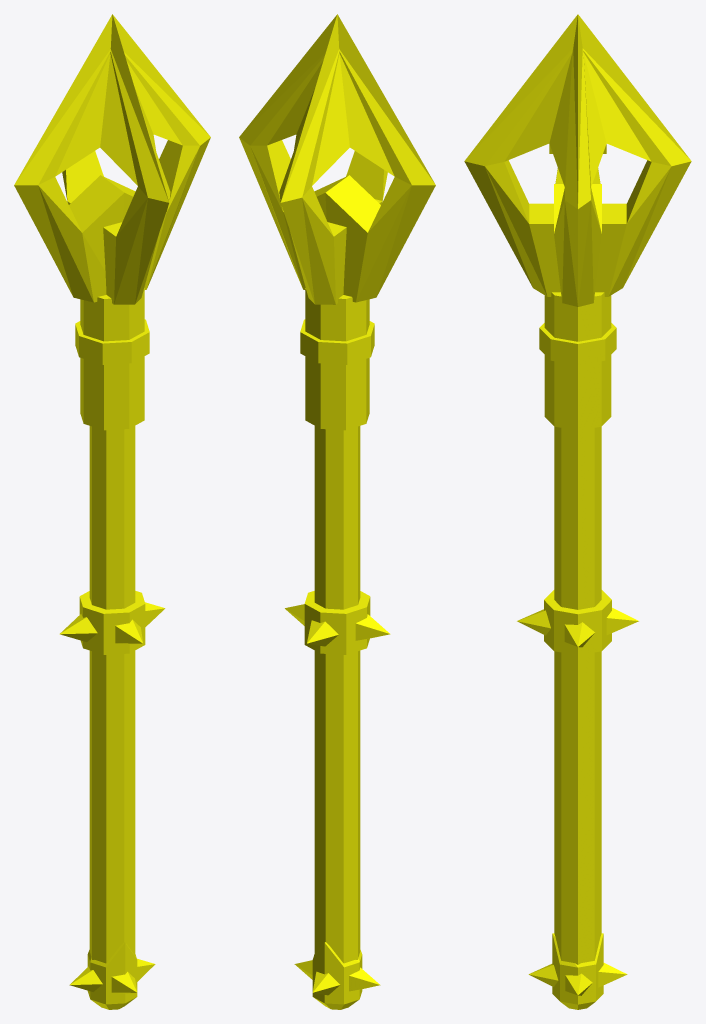
Rendered from hammer_5.glb.
3 renders of one model, left to right at view 1: azimuth 30°, elevation 25°; view 2: azimuth 150°, elevation 25°; view 3: azimuth 270°, elevation 25°, orthographic.
Parts seen in each view (by area): view 1: hammer_5; view 2: hammer_5; view 3: hammer_5.
Boxes of the visible parts, left/top/right/bottom form: hammer_5: left=14, top=14, right=210, bottom=1009; hammer_5: left=239, top=14, right=435, bottom=1009; hammer_5: left=464, top=14, right=691, bottom=1009.
Bounding box in the file's own units: 0.1586 × 0.7625 × 0.1586.
Materials: 1 (1 with a texture image).
